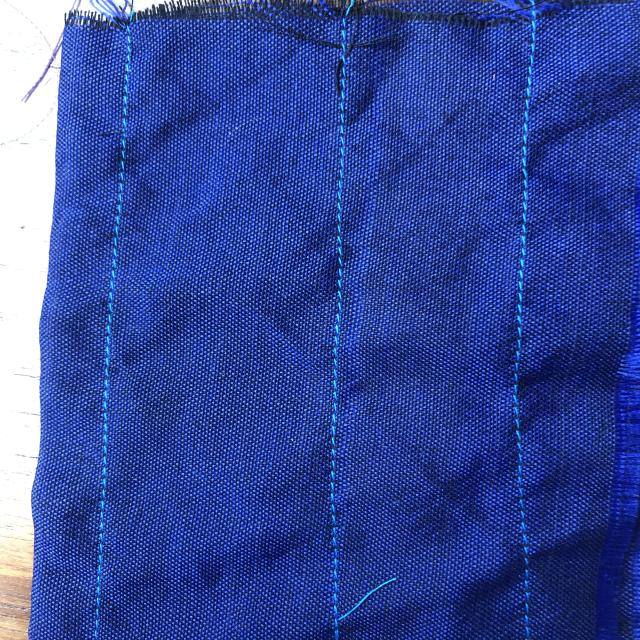good: (88, 375, 136, 501), (101, 189, 140, 321), (506, 180, 534, 336)
